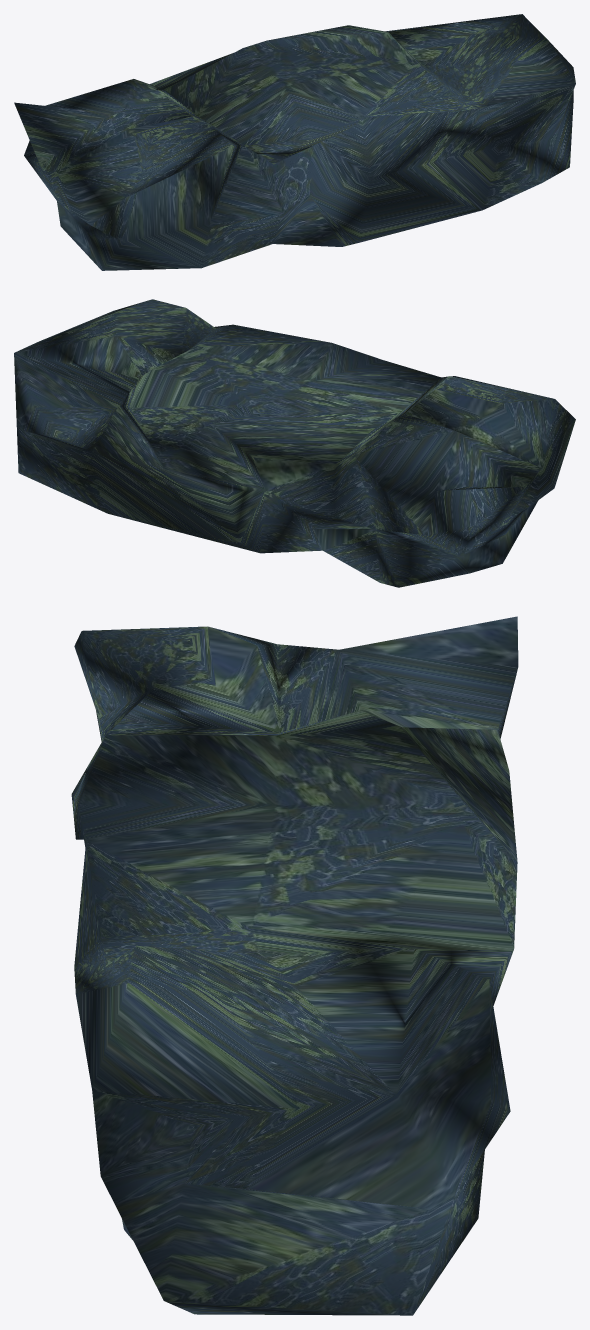
Rendered from rock_b.glb.
The picture shows the model from 3 angles, top to bottom: view 1: azimuth 30°, elevation 25°; view 2: azimuth 150°, elevation 25°; view 3: azimuth 270°, elevation 25°; orthographic projection. The views are drawn at different scales.
Bounding box in the file's own units: 1.84 × 0.5342 × 0.7195.
Materials: 1 (1 with a texture image).
